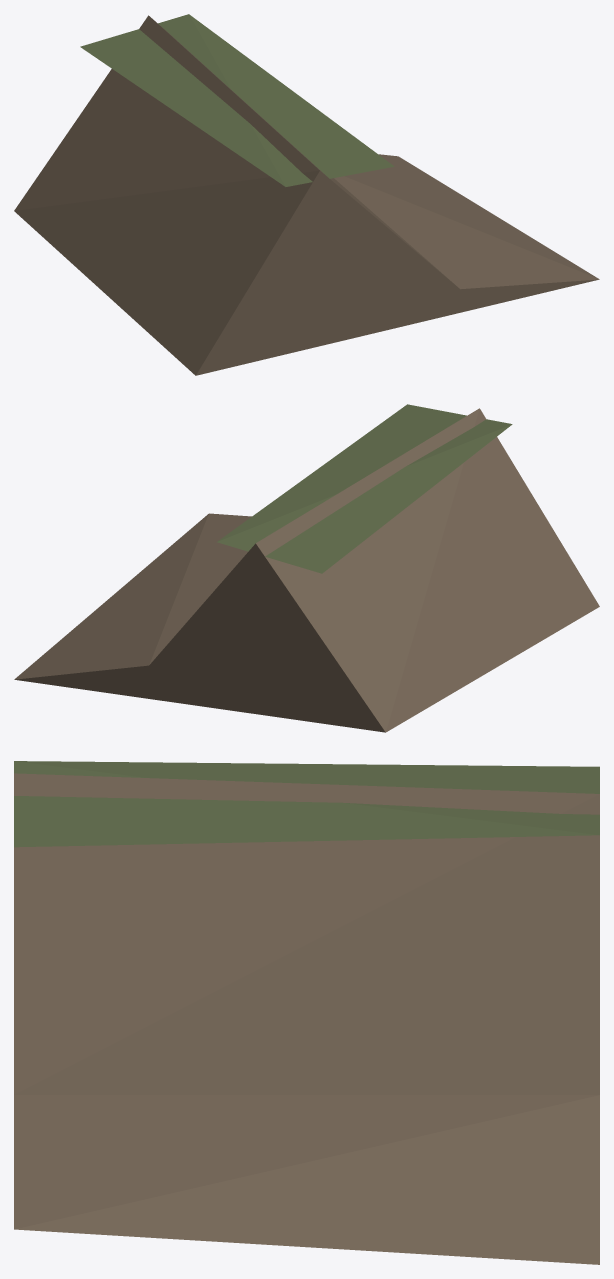
Rendered from bree_dike_lod1.glb.
3 renders of one model, top to bottom at view 1: azimuth 30°, elevation 25°; view 2: azimuth 150°, elevation 25°; view 3: azimuth 270°, elevation 25°, orthographic. The views are drawn at different scales.
Visible parts, largest first — view 1: bree_dike_lod1; view 2: bree_dike_lod1; view 3: bree_dike_lod1.
Boxes of the visible parts, box(x1,y1,x2,y2) form: bree_dike_lod1: box(14, 14, 599, 375); bree_dike_lod1: box(14, 404, 599, 732); bree_dike_lod1: box(14, 761, 599, 1264).
Bounding box in the file's own units: 4.63 × 2.21 × 4.
